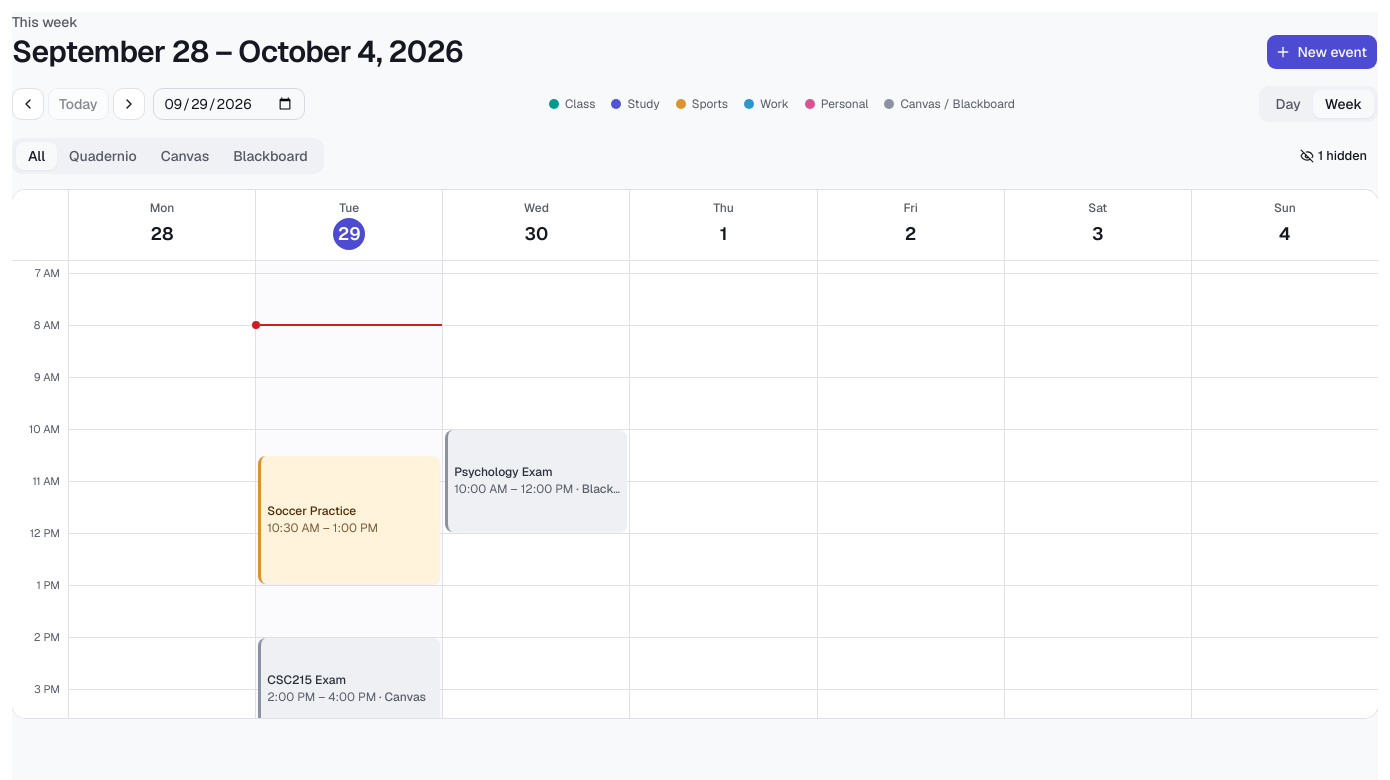
Scenario: going to a date, and what's due › 'Go to date' opens that day
This screenshot has width=1390, height=780.
(page scrolled)
In the date field named "Go to date": (229, 104) top-left (153, 88), bottom-right (305, 120), type "2026-12-03"
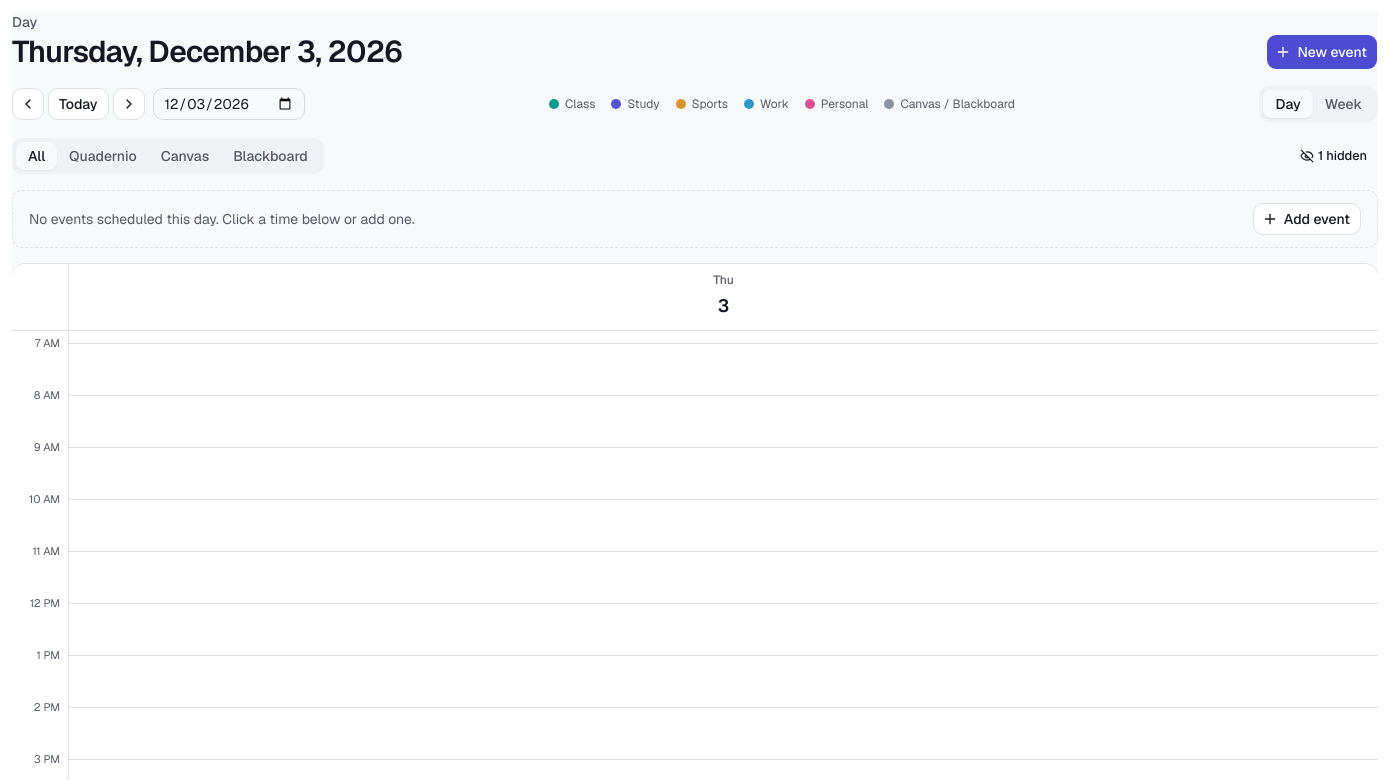
Result: the heading reads "Thursday, December 3, 2026" at top-left (12, 32), bottom-right (402, 71)
